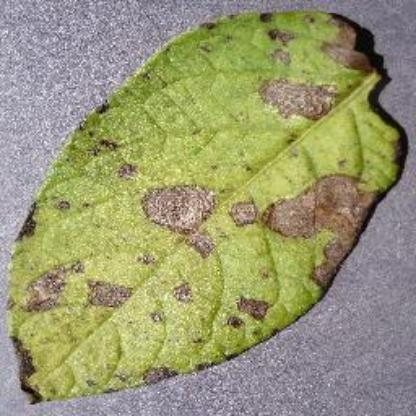Early-Blight: (6, 9, 404, 404)
